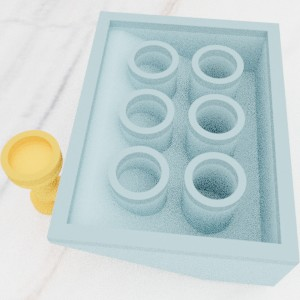lego: (46, 10, 300, 286), (0, 129, 112, 215)
